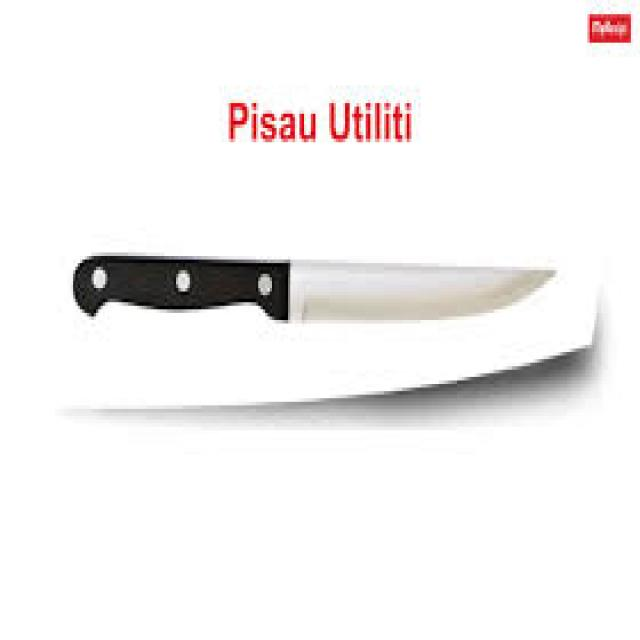Knife: (73, 260, 597, 402)
